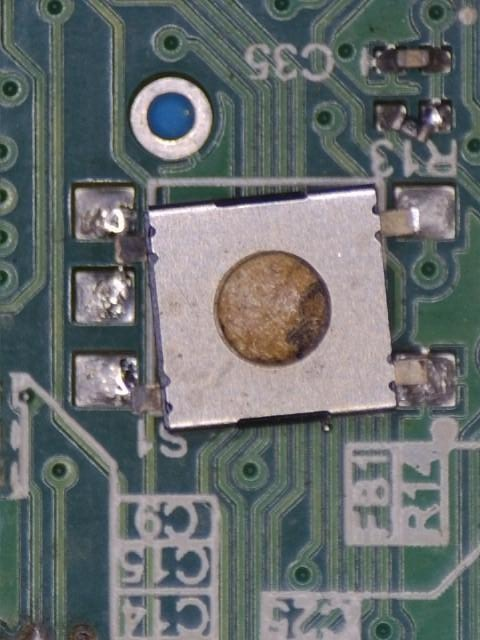pcb_defect: (72, 183, 459, 433), (71, 183, 147, 327), (375, 100, 453, 144)
